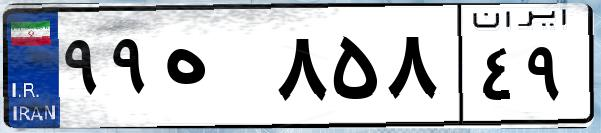4: (475, 38, 525, 113)
5: (330, 28, 385, 110)
8: (270, 28, 330, 110), (385, 28, 445, 110)
9: (57, 26, 110, 100), (525, 38, 570, 115), (110, 28, 158, 98)
ه: (158, 20, 270, 120)
